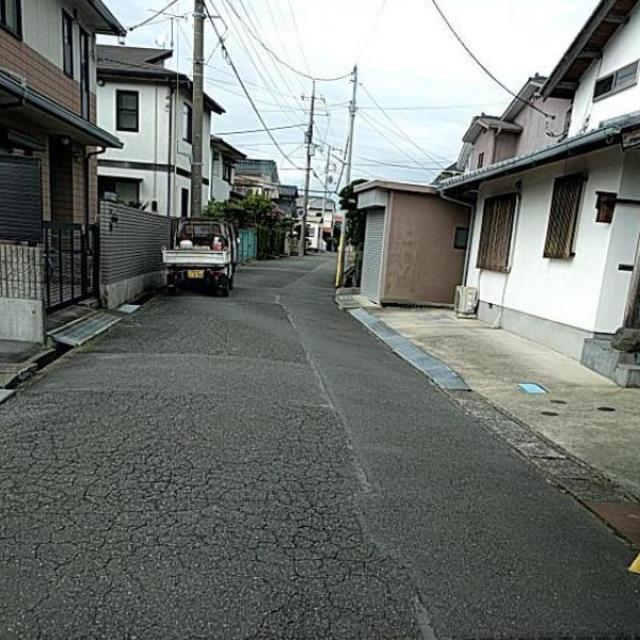Retak Buaya: (0, 410, 418, 640)
